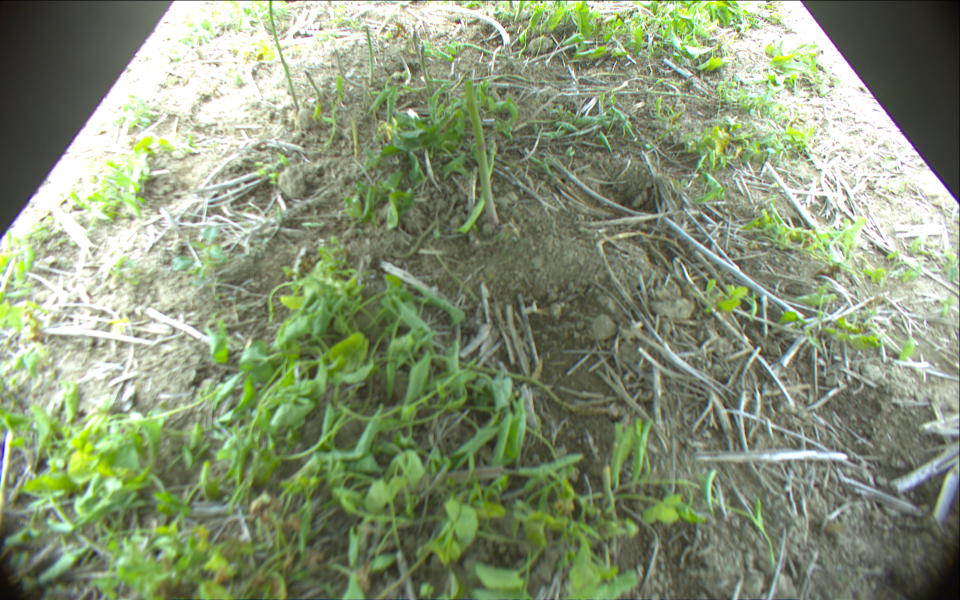aspa: (468, 79, 500, 226), (269, 1, 301, 113), (463, 130, 498, 231), (333, 45, 362, 87), (410, 27, 426, 84), (307, 70, 323, 116), (365, 27, 375, 85), (420, 45, 430, 100), (323, 107, 336, 148)
